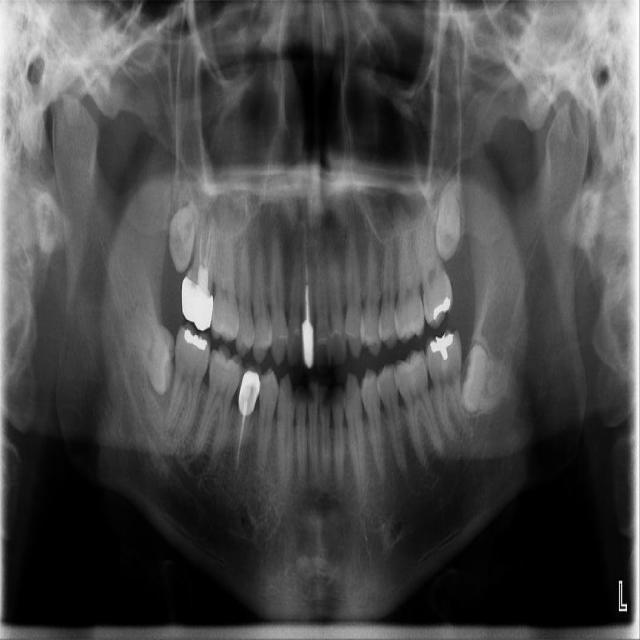3M ESPE Implant: (162, 189, 204, 275)
52: (410, 269, 469, 331), (167, 318, 224, 371), (418, 326, 470, 376), (179, 275, 214, 331), (236, 361, 262, 417), (298, 320, 316, 372)
73: (184, 195, 219, 297), (301, 220, 316, 327), (231, 410, 252, 475), (622, 615, 628, 623)
BioHorizons Implant: (410, 183, 457, 332)
BioLife Implant: (433, 168, 467, 263)
Biomet 3i Implant: (440, 342, 524, 426)
Blue Sky Bio Implant: (421, 328, 474, 447)
Caries: (179, 194, 219, 332)
Implant: (161, 321, 216, 443)
Keystone Dental Implant: (108, 290, 198, 398)
